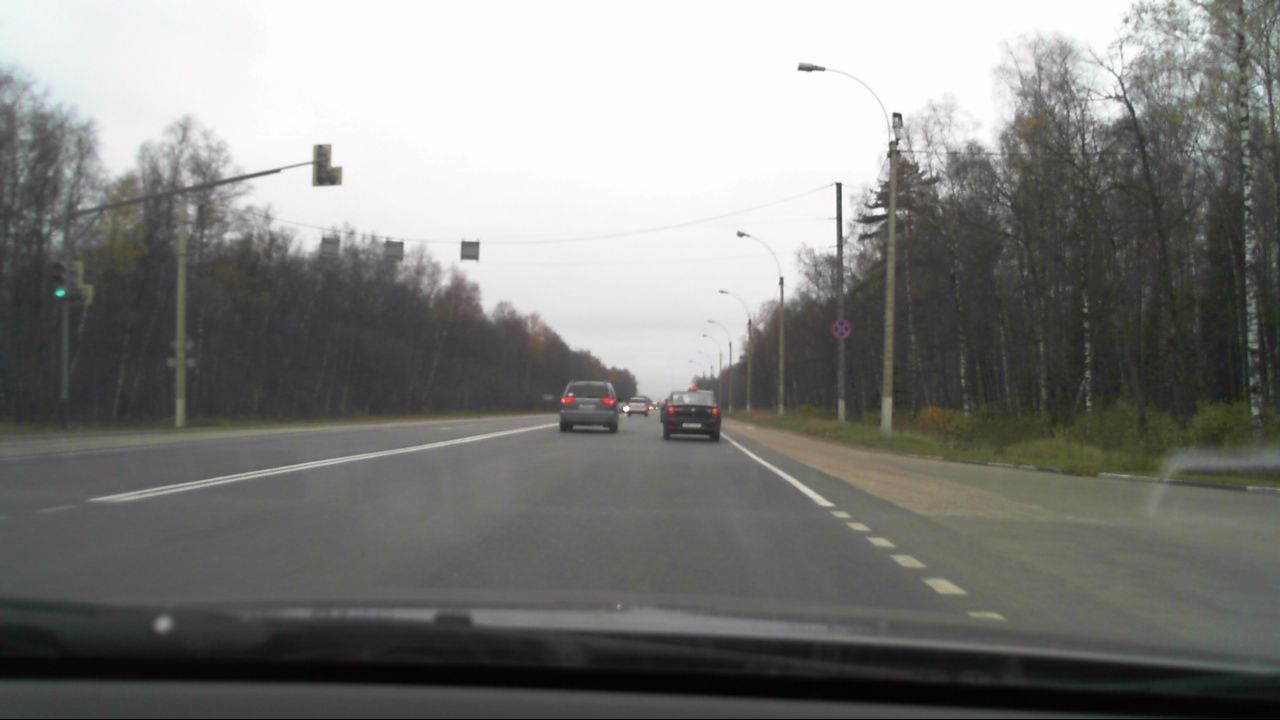No Parking: (828, 318, 850, 340)
